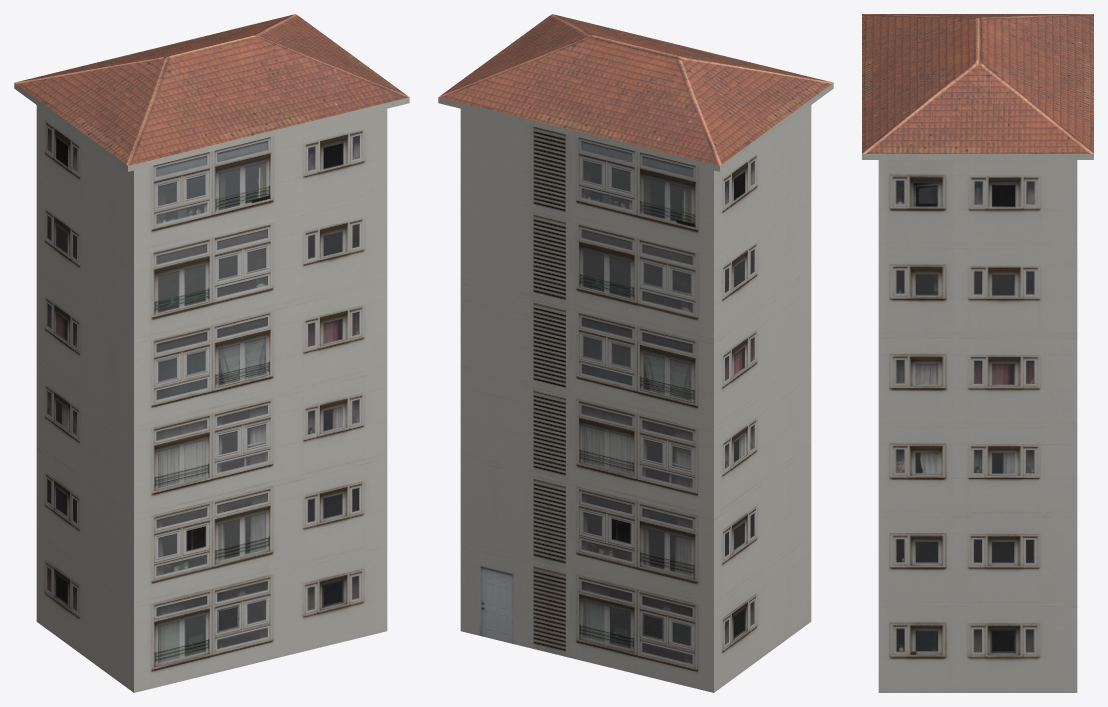
The model's file is bill_middle_after.fbx.
3 renders of one model, left to right at view 1: azimuth 30°, elevation 25°; view 2: azimuth 150°, elevation 25°; view 3: azimuth 270°, elevation 25°, orthographic.
Parts seen in each view (by area): view 1: Building, Building_cell.002, Building_cell.011, Building_cell.001, Building_cell.005, Building_cell.006, Building_cell, Building_cell.003, Building_cell.007; view 2: Building, Building_cell.011, Building_cell.001, Building_cell.004, Building_cell.008, Building_cell.006, Building_cell.002, Building_cell, Building_cell.007; view 3: Building, Building_cell, Building_cell.002, Building_cell.001, Building_cell.003.
Part boxes in pixels (x1,y1,x2,y2): Building: (14,14,409,692); Building_cell.002: (36,503,387,690); Building_cell.011: (18,72,136,475); Building_cell.001: (69,36,248,217); Building_cell.005: (135,186,226,435); Building_cell.006: (306,236,354,362); Building_cell: (284,24,405,94); Building_cell.003: (355,183,384,321); Building_cell.007: (122,391,157,500); Building: (438,14,833,692); Building_cell.011: (688,106,811,498); Building_cell.001: (543,38,833,144); Building_cell.004: (594,151,714,364); Building_cell.008: (460,493,597,619); Building_cell.006: (451,100,543,255); Building_cell.002: (658,500,811,638); Building_cell: (477,15,551,71); Building_cell.007: (677,414,810,520); Building: (862,14,1093,692); Building_cell: (867,119,1043,229); Building_cell.002: (878,428,985,691); Building_cell.001: (863,14,1065,94); Building_cell.003: (878,190,927,273).
Size of the model in its own units: 100000 by 197000 by 70000.
